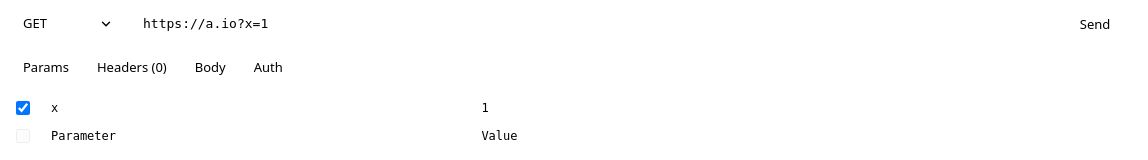
RequestPane › syncs the URL query into the Params grid and back
The width and height of the screenshot is (1148, 160).
expect the field named "Key 1" holds "x": met, box [43,96,465,120]
Replace the text in the field named "Value 1" with "2" at (790, 108), box [473,96,1107,120]
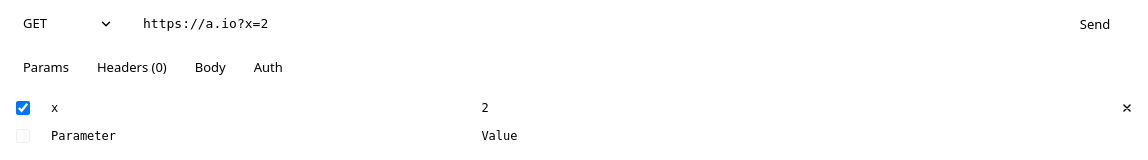
expect the text box labelled "https://a.io?x=2" is shown: met, box [143,16,268,31]
